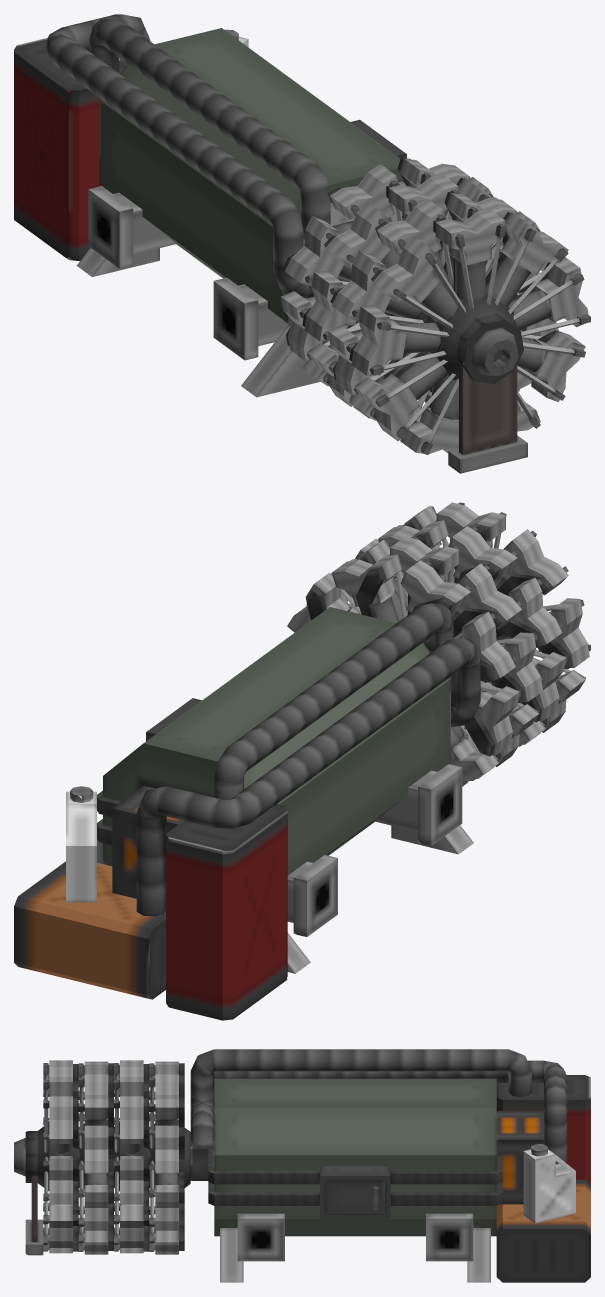
The model's file is industrial_combustion_engine.obj.
3 renders of one model, top to bottom at view 1: azimuth 30°, elevation 25°; view 2: azimuth 150°, elevation 25°; view 3: azimuth 270°, elevation 25°, orthographic. The views are drawn at different scales.
Visible parts, largest first — view 1: Engine; view 2: Engine, Canister; view 3: Engine, Canister, Hatch.
Boxes of the visible parts, <box> form: Engine: <box>14,14,590,473</box>; Engine: <box>14,502,590,1020</box>; Canister: <box>66,791,96,902</box>; Engine: <box>14,1049,590,1282</box>; Canister: <box>523,1149,575,1223</box>; Hatch: <box>326,1181,384,1213</box>.
Size of the model in its own units: 2.09 by 2.05 by 6.12.
